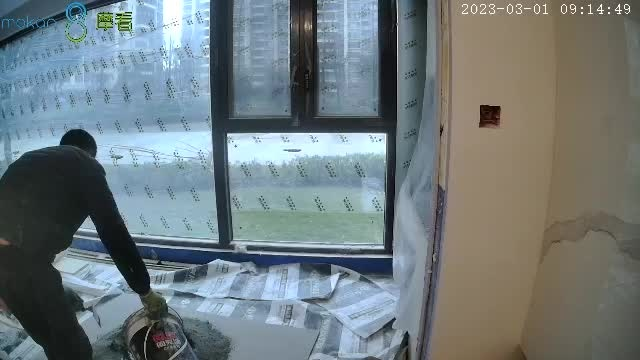people: (2, 129, 169, 360)
window: (2, 2, 390, 256)
